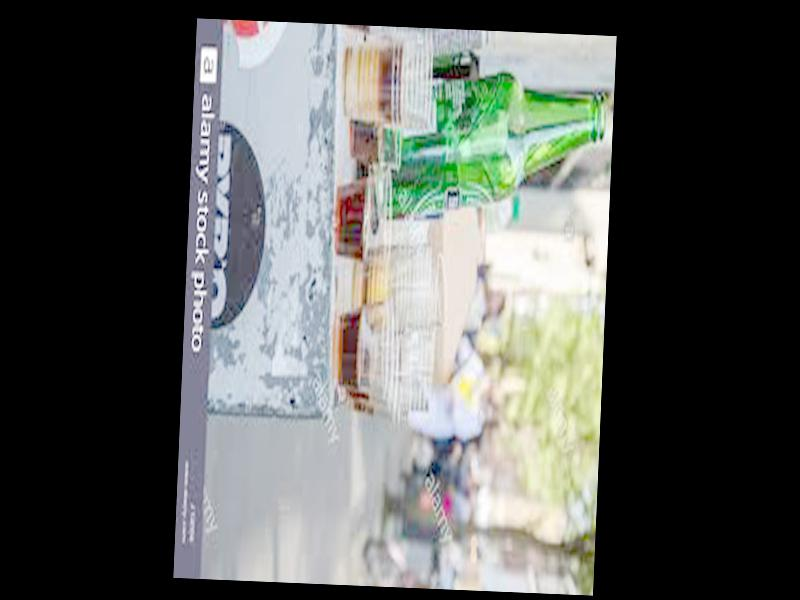Beer: (360, 63, 607, 232)
